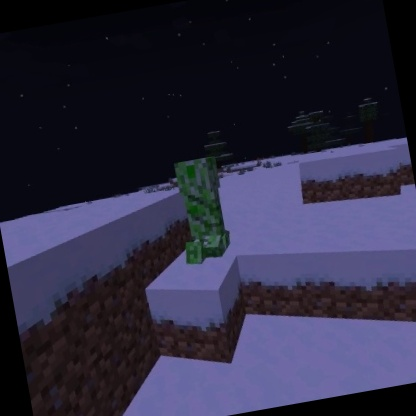creeper: (165, 151, 238, 270)
